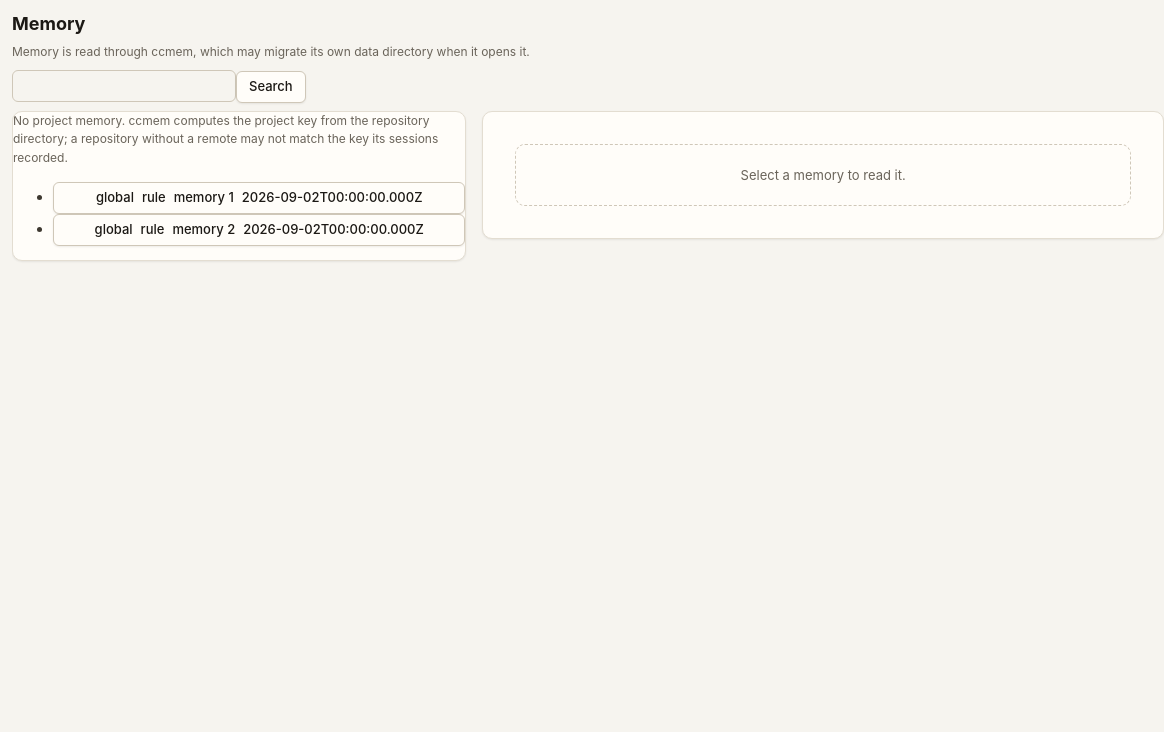
Test: Memory split layout (spec §9.2 item 2) › puts the list in .split-list and the opened detail in .split-detail, side by side in one .split
The width and height of the screenshot is (1164, 732).
expect the element with class "split" is shown: met, box [12,111,1163,261]
expect the list with class "memory-list" is shown: met, box [13,182,465,246]
Click the 2nd button with class "memory-row": (259, 230) [53,214,465,246]
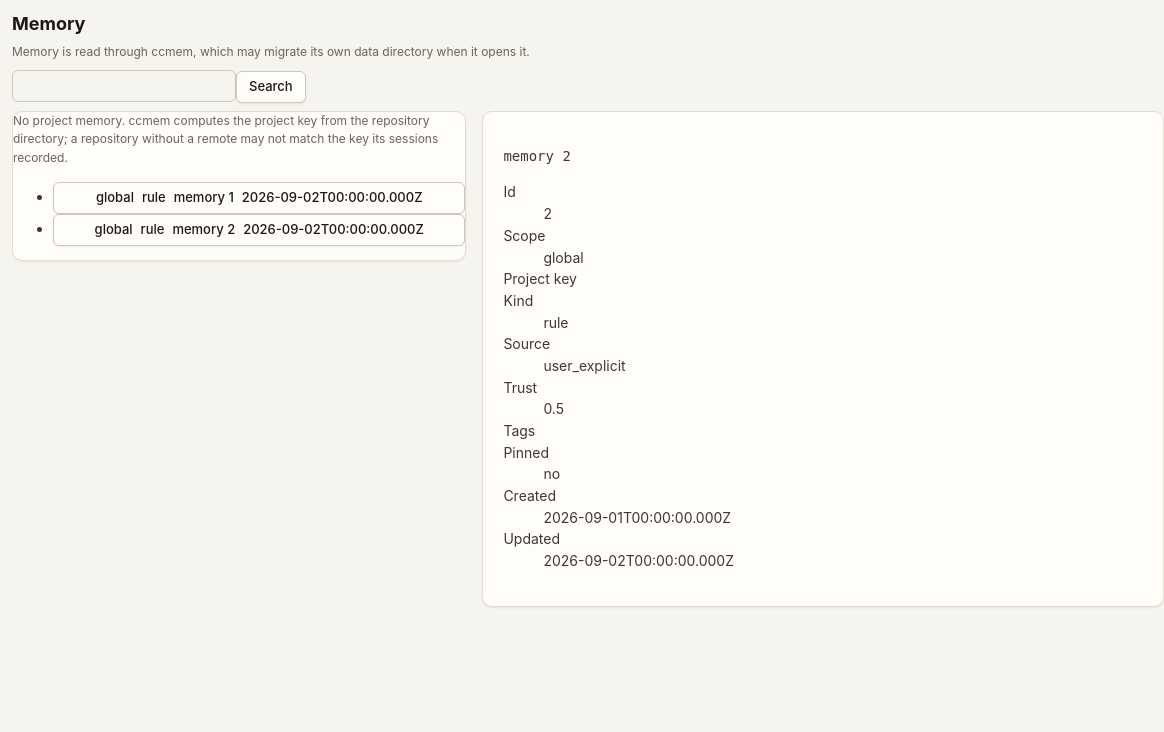
expect the text with test id "memory-content" reads "memory 2": met, box [503,148,571,164]
expect the element with class "memory-detail" is shown: met, box [503,148,734,569]
